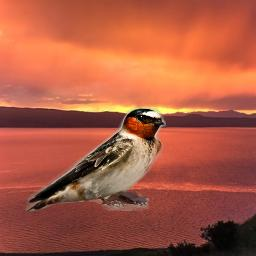Swallow: (25, 106, 166, 211)
